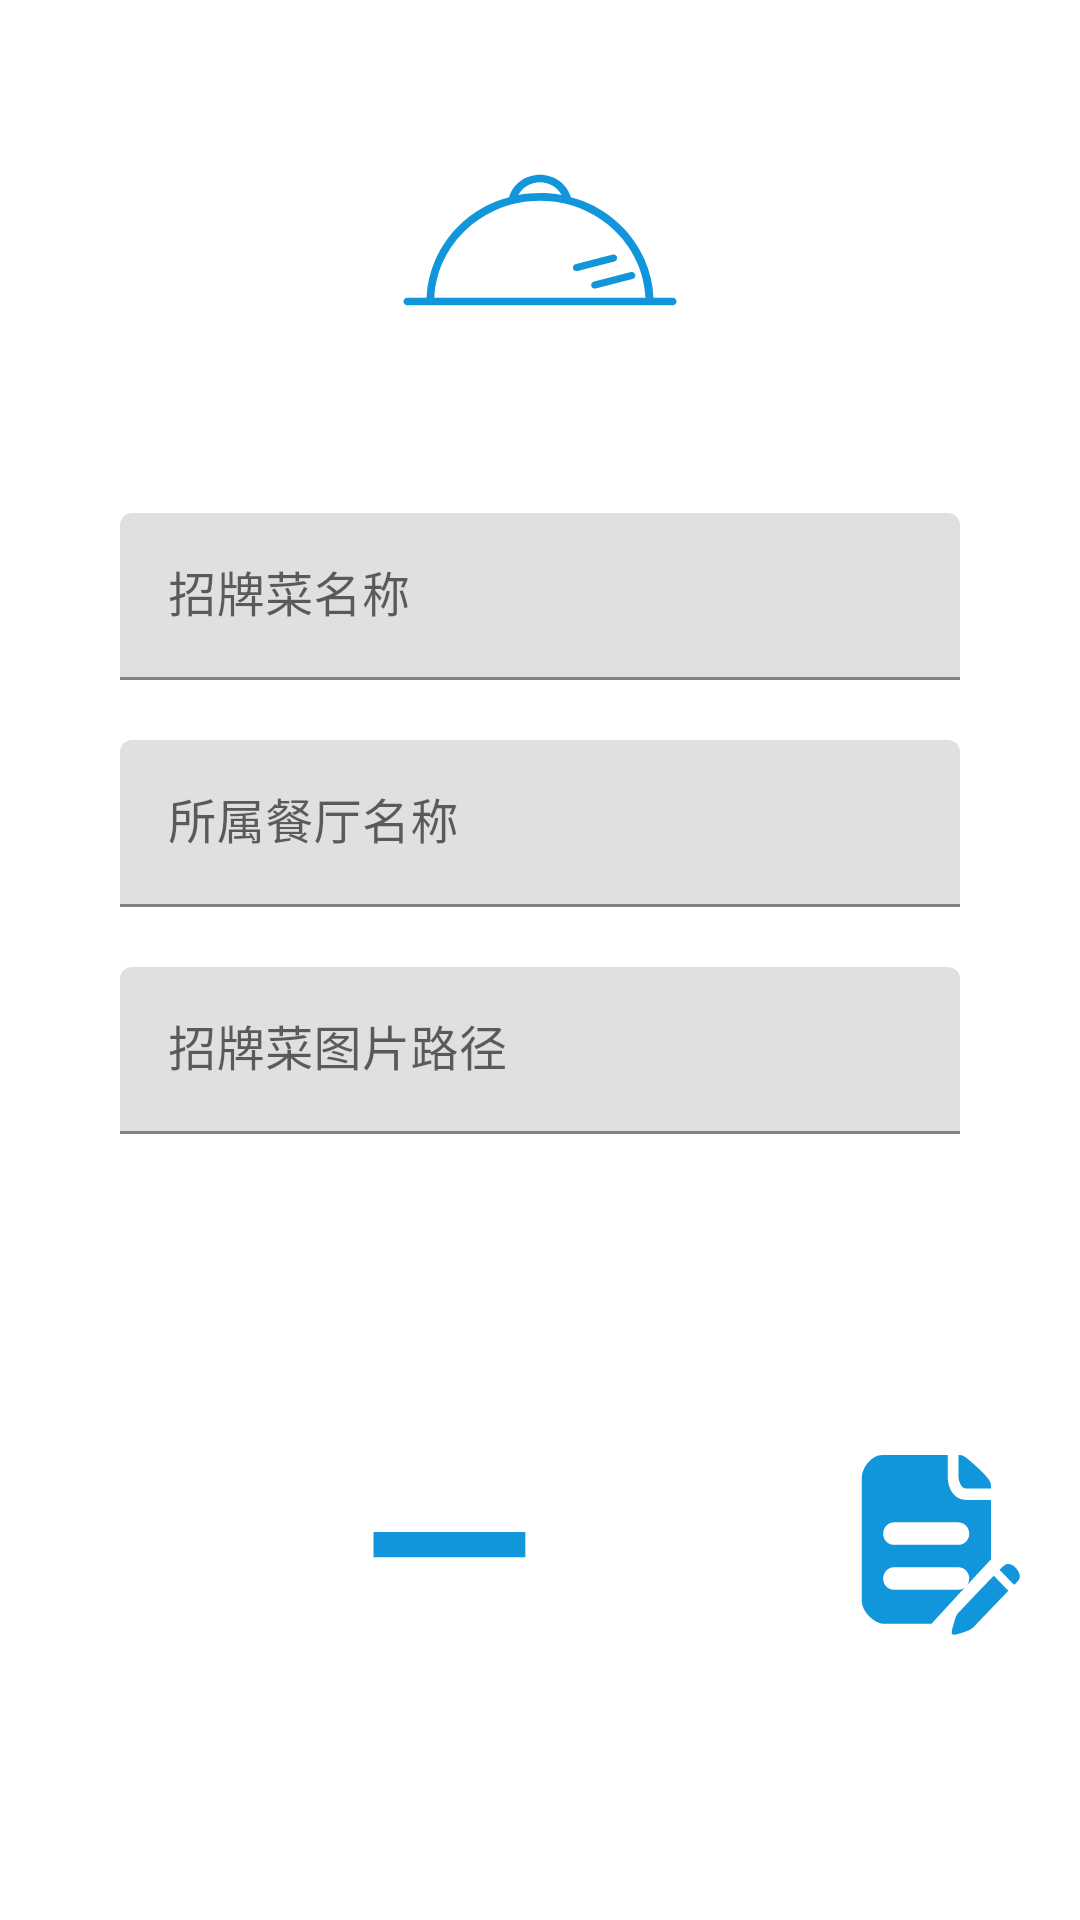

Point at icon controls on the screen. Image size 1080w x 1920h, points as (x=x, y=y).
food title: (x=540, y=240)
restaurant modify: (x=940, y=1545)
